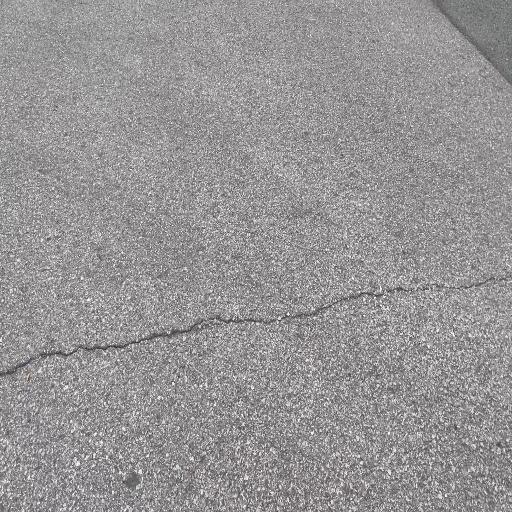Melintang: (0, 261, 512, 382)
